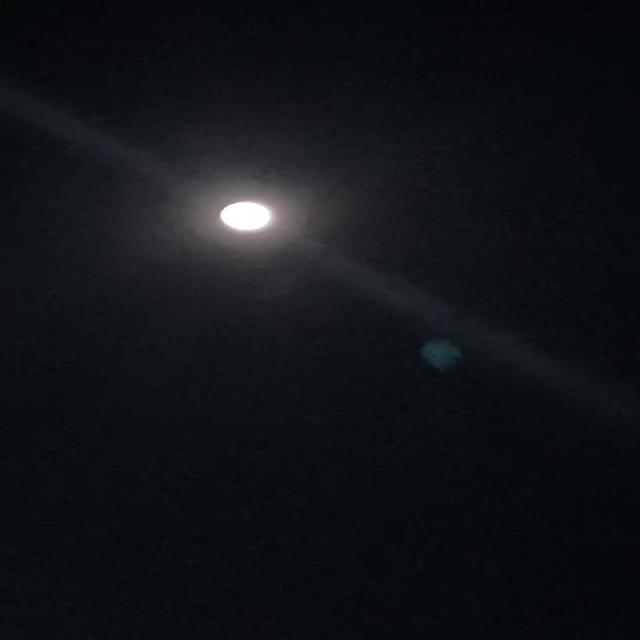moon: (200, 193, 291, 239)
